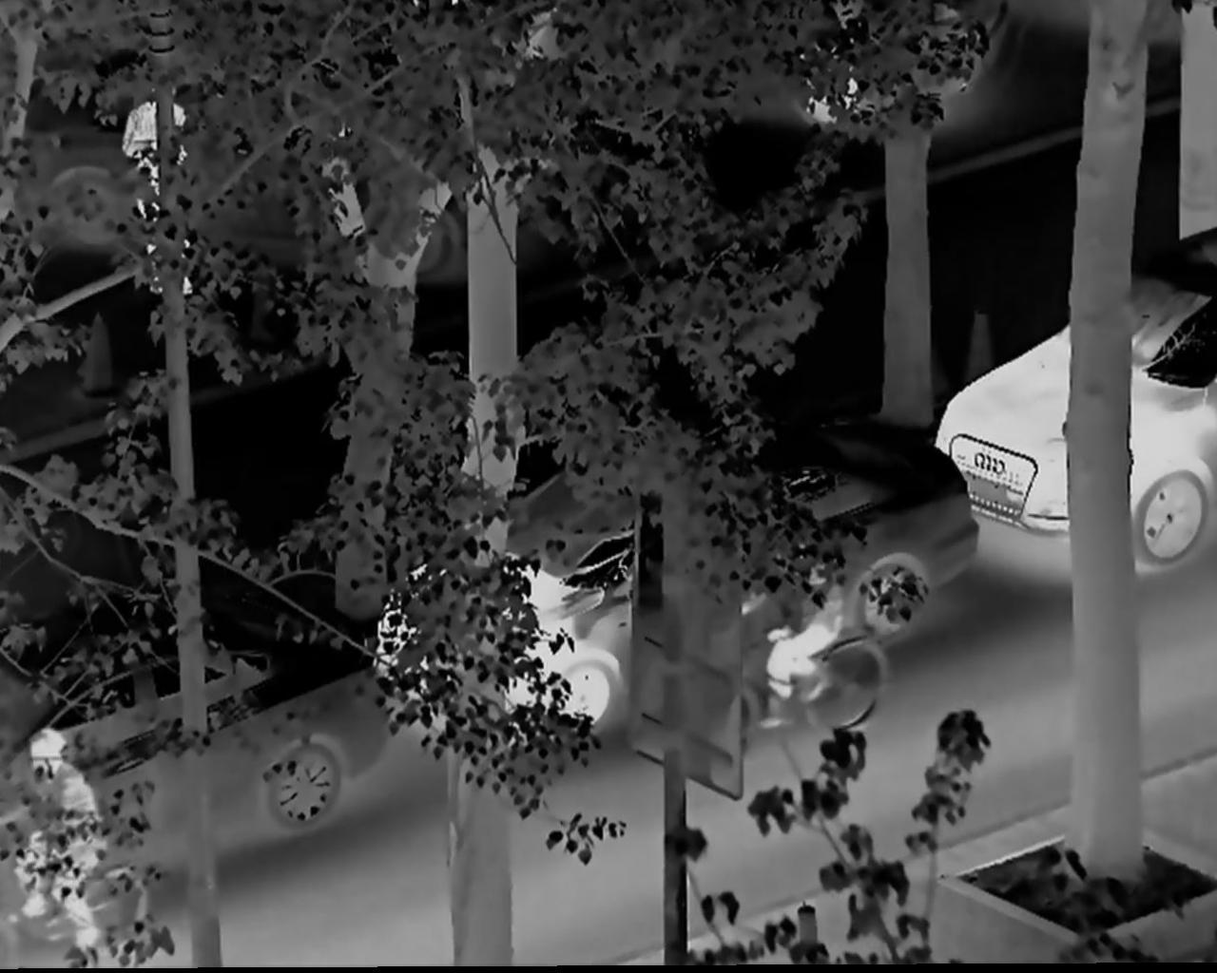person: (2, 727, 122, 969), (733, 549, 845, 715), (117, 87, 194, 294)
